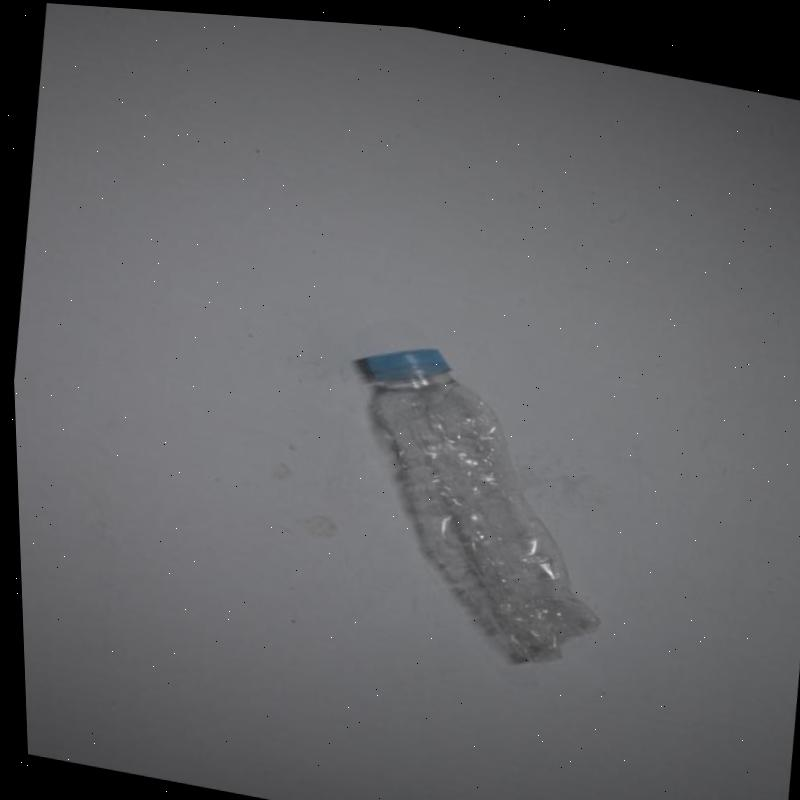botella: (321, 327, 624, 667)
